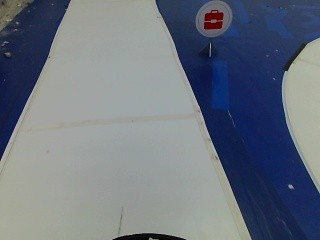company: (194, 0, 234, 37)
